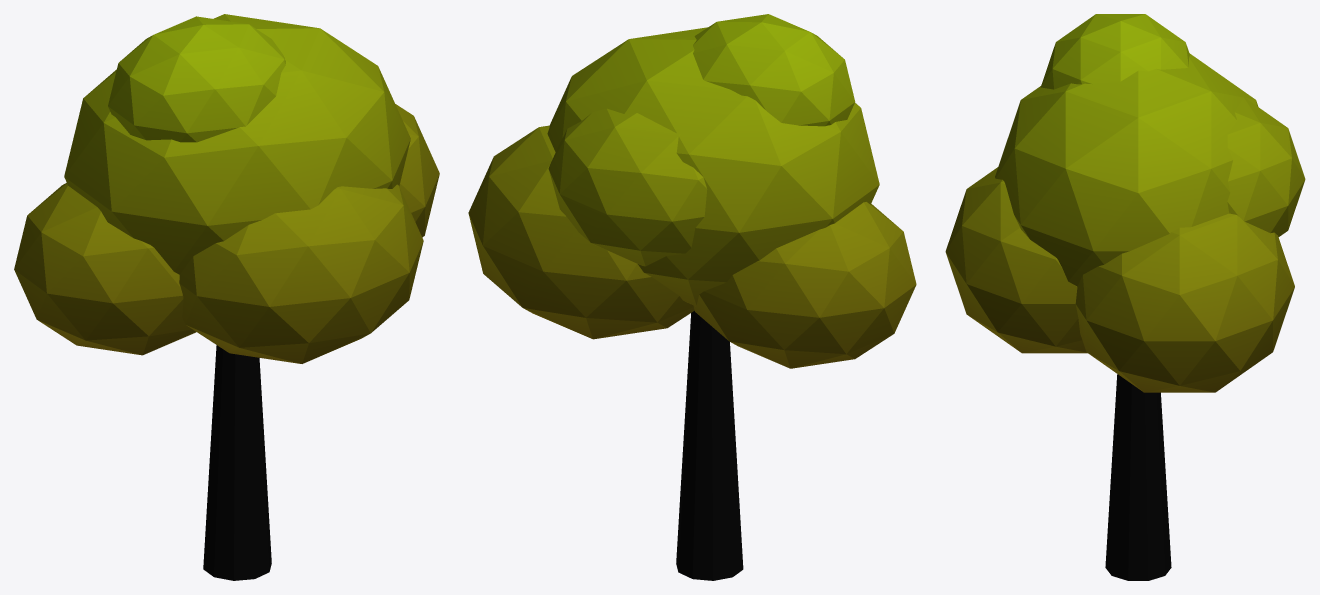
The model's file is tree_sample.glb.
The picture shows the model from 3 angles, left to right: view 1: azimuth 30°, elevation 25°; view 2: azimuth 150°, elevation 25°; view 3: azimuth 270°, elevation 25°; orthographic projection. The views are drawn at different scales.
Visible parts, largest first — view 1: leaves_00, leaves_03, leaves_01, leaves_05, tree_trunk, leaves_02; view 2: leaves_00, leaves_01, leaves_02, leaves_04, tree_trunk, leaves_05; view 3: leaves_00, leaves_02, leaves_03, tree_trunk, leaves_04, leaves_05.
Boxes of the visible parts, left/top/right/bottom form: leaves_00: left=64, top=14, right=410, bottom=274; leaves_03: left=179, top=184, right=423, bottom=363; leaves_01: left=14, top=182, right=196, bottom=355; leaves_05: left=108, top=16, right=285, bottom=142; tree_trunk: left=203, top=345, right=271, bottom=580; leaves_02: left=395, top=104, right=439, bottom=237; leaves_00: left=547, top=27, right=879, bottom=306; leaves_01: left=693, top=202, right=916, bottom=368; leaves_02: left=468, top=125, right=694, bottom=339; leaves_04: left=548, top=108, right=707, bottom=266; tree_trunk: left=676, top=311, right=743, bottom=580; leaves_05: left=693, top=14, right=855, bottom=126; leaves_00: left=995, top=53, right=1258, bottom=286; leaves_02: left=1075, top=213, right=1294, bottom=392; leaves_03: left=945, top=167, right=1087, bottom=353; tree_trunk: left=1105, top=374, right=1171, bottom=580; leaves_04: left=1227, top=96, right=1305, bottom=236; leaves_05: left=1041, top=14, right=1189, bottom=89.
Size of the model in its own units: 3.74 by 4.92 by 3.05.
